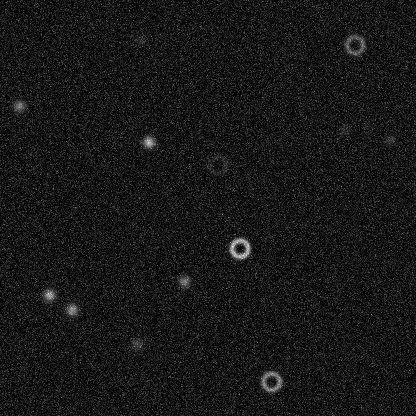Ring: (206, 152, 230, 176), (342, 32, 366, 56), (259, 369, 283, 393), (227, 236, 251, 260)
Spot: (128, 335, 144, 351), (140, 134, 156, 150), (336, 121, 352, 137), (176, 273, 192, 289), (132, 31, 148, 47), (41, 286, 57, 302), (63, 301, 79, 317), (382, 131, 398, 147), (359, 118, 375, 134), (11, 97, 27, 113)
